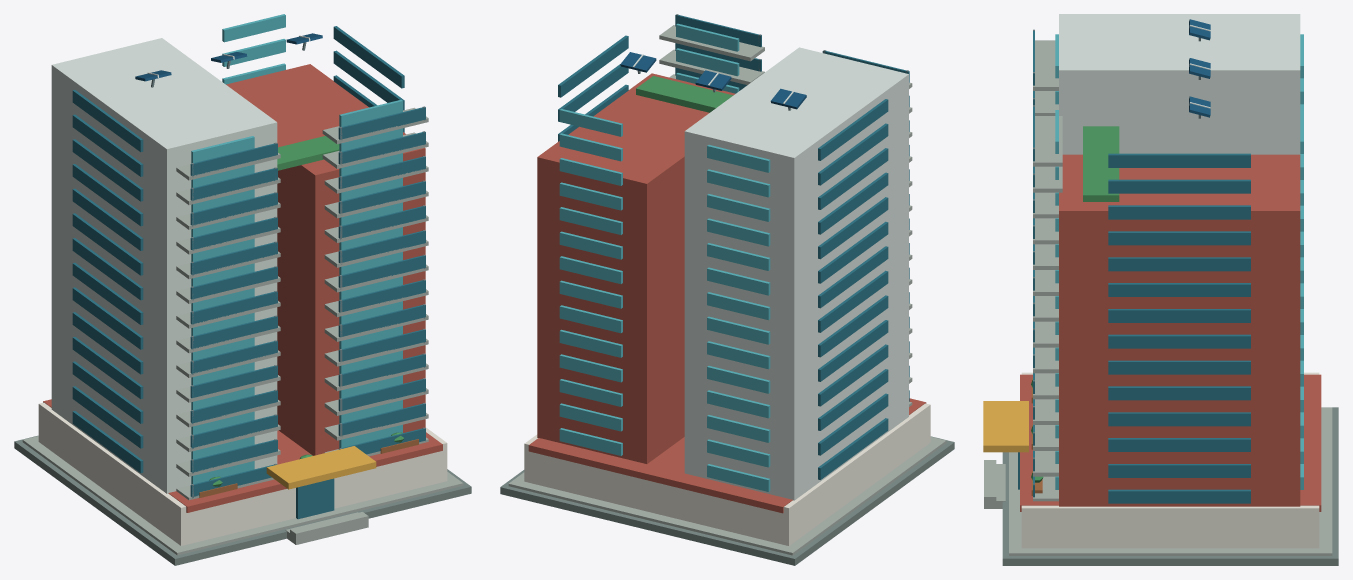
The model's file is apartment_lv4.glb.
The picture shows the model from 3 angles, left to right: view 1: azimuth 30°, elevation 25°; view 2: azimuth 150°, elevation 25°; view 3: azimuth 270°, elevation 25°; orthographic projection. The views are drawn at different scales.
Parts seen in each view (by area): view 1: glassDark, white, brick, concrete, glass, ivory, pavement, gold, green, steel, solar; view 2: white, brick, glass, glassDark, ivory, concrete, pavement, green, solar; view 3: brick, white, glassDark, concrete, ivory, pavement, glass, green, gold, solar.
Boxes of the visible parts, x1,y1,x2,y2 form: glassDark: [72, 26, 425, 519]; white: [51, 35, 310, 493]; brick: [43, 64, 442, 512]; concrete: [22, 107, 463, 555]; glass: [191, 14, 402, 484]; ivory: [38, 402, 447, 545]; pavement: [14, 435, 471, 565]; gold: [266, 446, 376, 489]; green: [209, 136, 404, 486]; steel: [151, 42, 425, 498]; solar: [135, 33, 322, 81]; white: [632, 47, 908, 500]; brick: [528, 73, 926, 513]; glass: [559, 23, 770, 491]; glassDark: [558, 15, 909, 479]; ivory: [524, 403, 930, 545]; concrete: [508, 25, 946, 555]; pavement: [500, 436, 954, 565]; green: [636, 76, 733, 112]; solar: [620, 52, 806, 109]; brick: [1020, 154, 1321, 511]; white: [1059, 14, 1300, 154]; glassDark: [1018, 31, 1250, 503]; concrete: [984, 40, 1332, 555]; ivory: [1021, 372, 1319, 548]; pavement: [1002, 407, 1338, 565]; glass: [1055, 34, 1303, 489]; green: [1031, 126, 1119, 482]; gold: [983, 401, 1028, 452]; solar: [1189, 19, 1210, 117].
Size of the model in its own units: 9.8 by 12.88 by 9.72.
